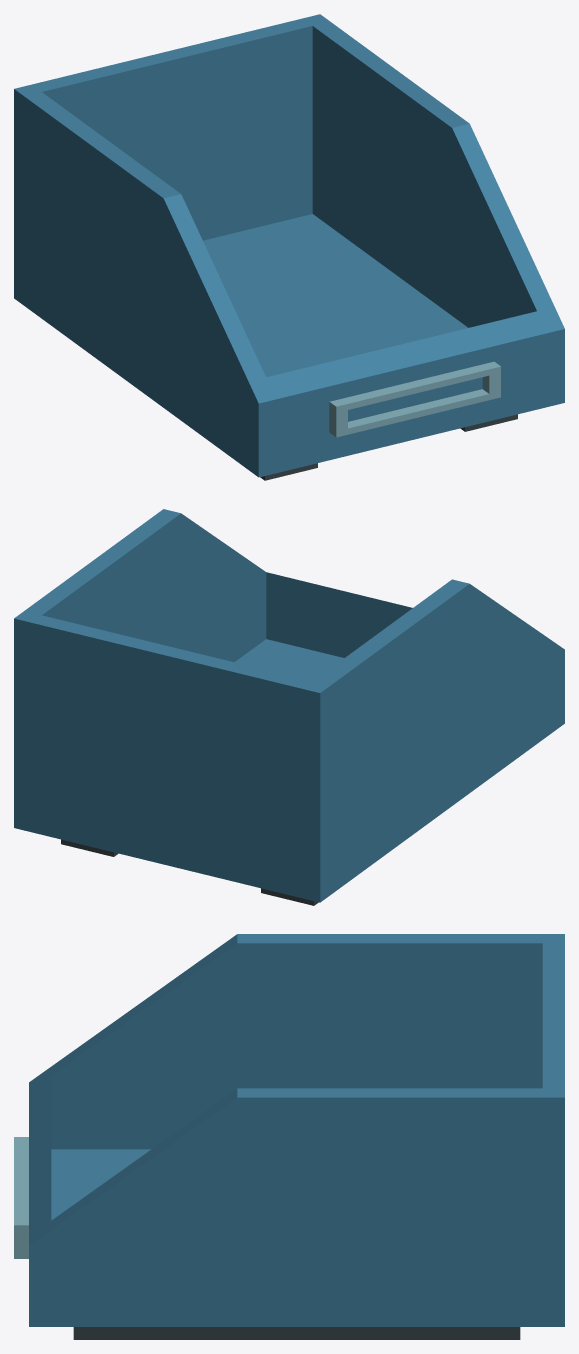
3 views of the same model, one above another, from view 1: azimuth 30°, elevation 25°; view 2: azimuth 150°, elevation 25°; view 3: azimuth 270°, elevation 25° (orthographic). The views are drawn at different scales.
Parts seen in each view (by area): view 1: ContinuousLowFrontBinShell, OpenFrontLabelFrame; view 2: ContinuousLowFrontBinShell; view 3: ContinuousLowFrontBinShell, RightLongitudinalSkid, OpenFrontLabelFrame.
Part boxes in pixels (x1=…): ContinuousLowFrontBinShell: x1=14, y1=14, x2=564, y2=477; OpenFrontLabelFrame: x1=329, y1=361, x2=500, y2=437; ContinuousLowFrontBinShell: x1=14, y1=509, x2=564, y2=902; ContinuousLowFrontBinShell: x1=29, y1=934, x2=564, y2=1326; RightLongitudinalSkid: x1=73, y1=1327, x2=520, y2=1339; OpenFrontLabelFrame: x1=14, y1=1137, x2=28, y2=1258.
Bounding box in the file's own units: 0.52 × 0.38 × 0.74.
